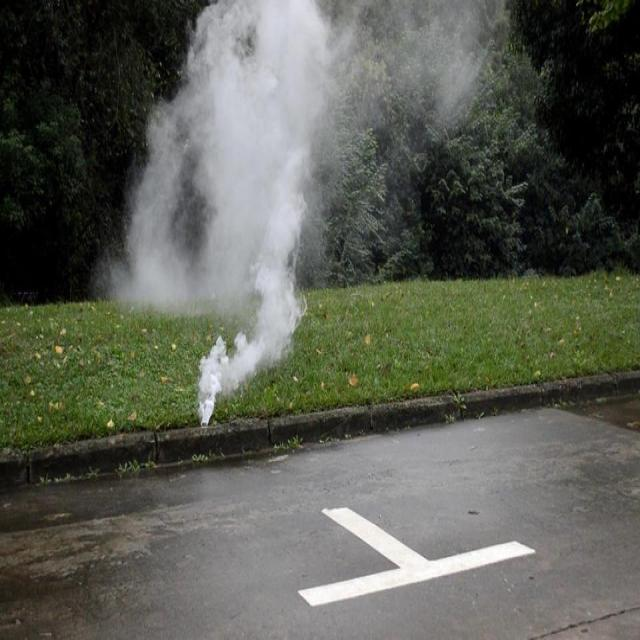Smoke: (90, 1, 487, 427)
